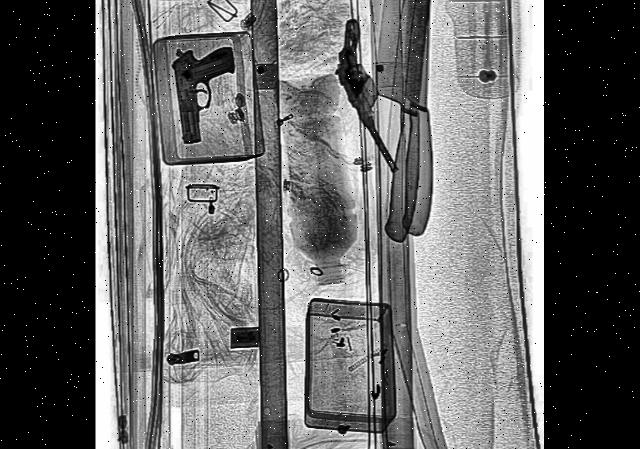Gun: (326, 9, 414, 184), (170, 32, 247, 147)
Knife: (356, 0, 446, 250), (397, 0, 437, 239)
